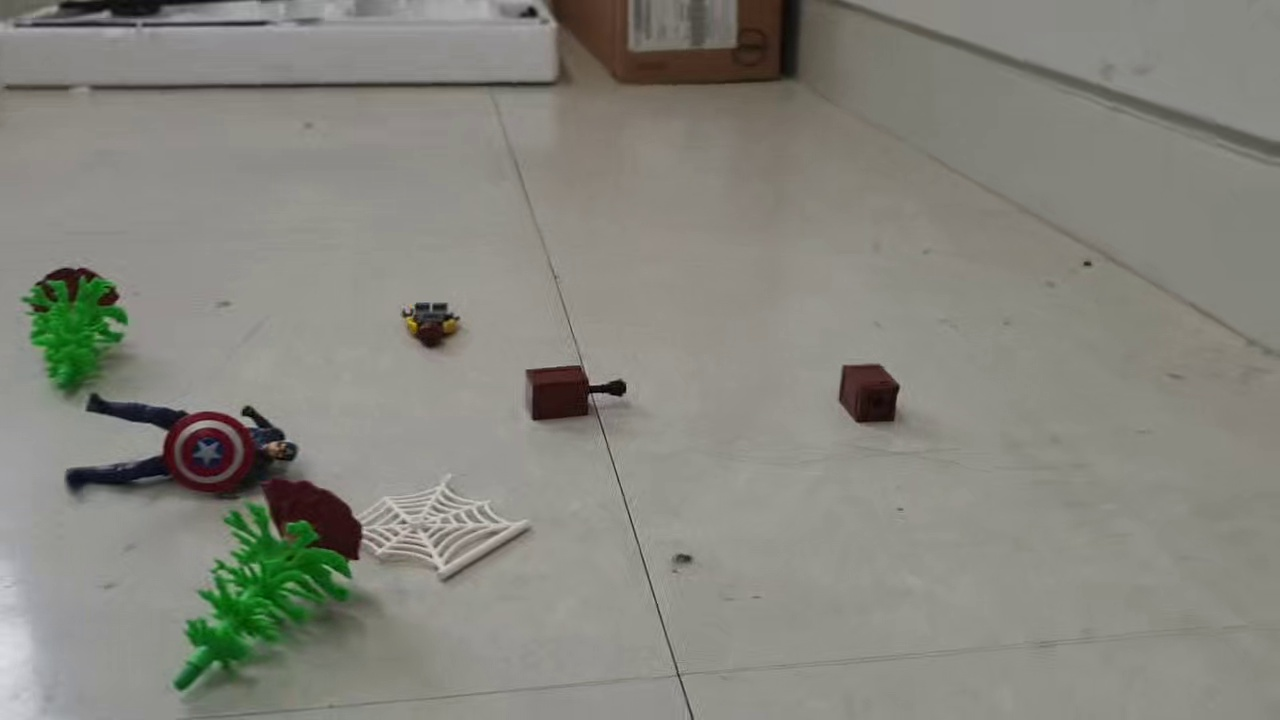box: (522, 362, 632, 429), (836, 360, 903, 431)
people: (63, 390, 300, 501), (400, 299, 463, 353)
tree: (170, 474, 365, 693), (20, 263, 131, 399)
web: (328, 468, 536, 587)
